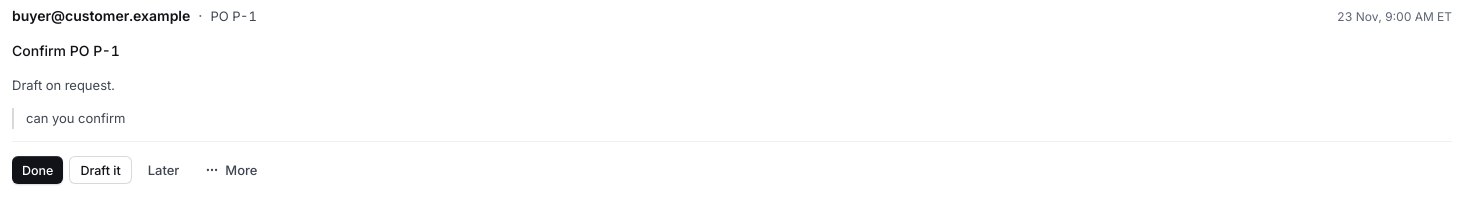
Scenario: A matter with no draft yet › shows its note and asks for the draft on a click, then says it is being prepared
The image size is (1464, 202).
Expected: the text with test id "prepared-note" reads "Draft on request.", [12,77,115,93]
Click the button "Draft it": (100, 170) [69,156,132,184]
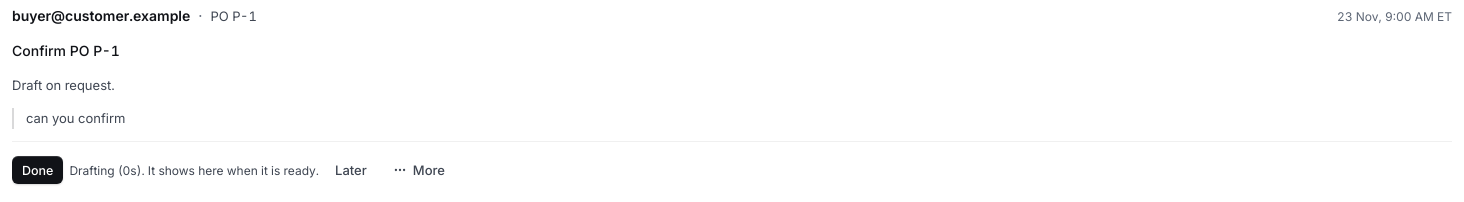
Now the message "Drafting (0s). It shows here when it is ready." is shown, box [69,158,319,182]
Now the button "Draft it" is gone
